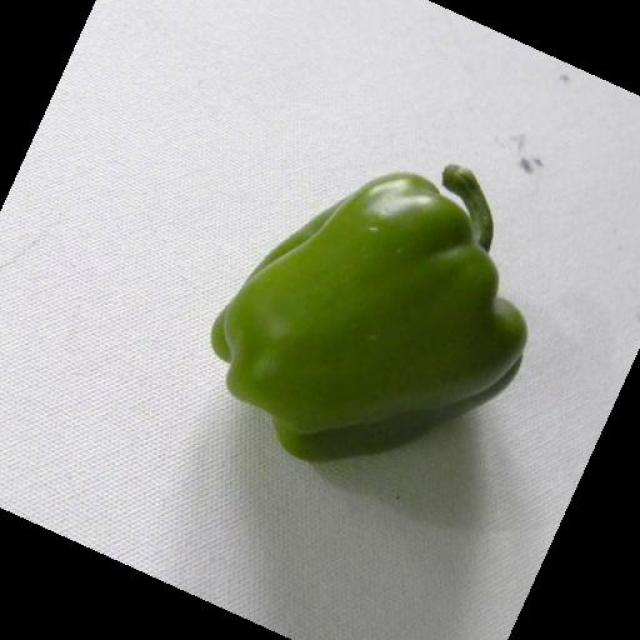Fresh_Capsicum: (204, 158, 514, 480)
